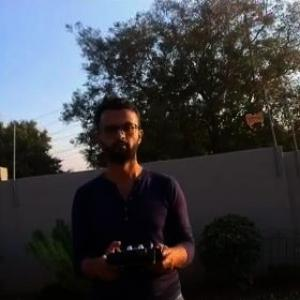follow: (58, 87, 198, 299)
